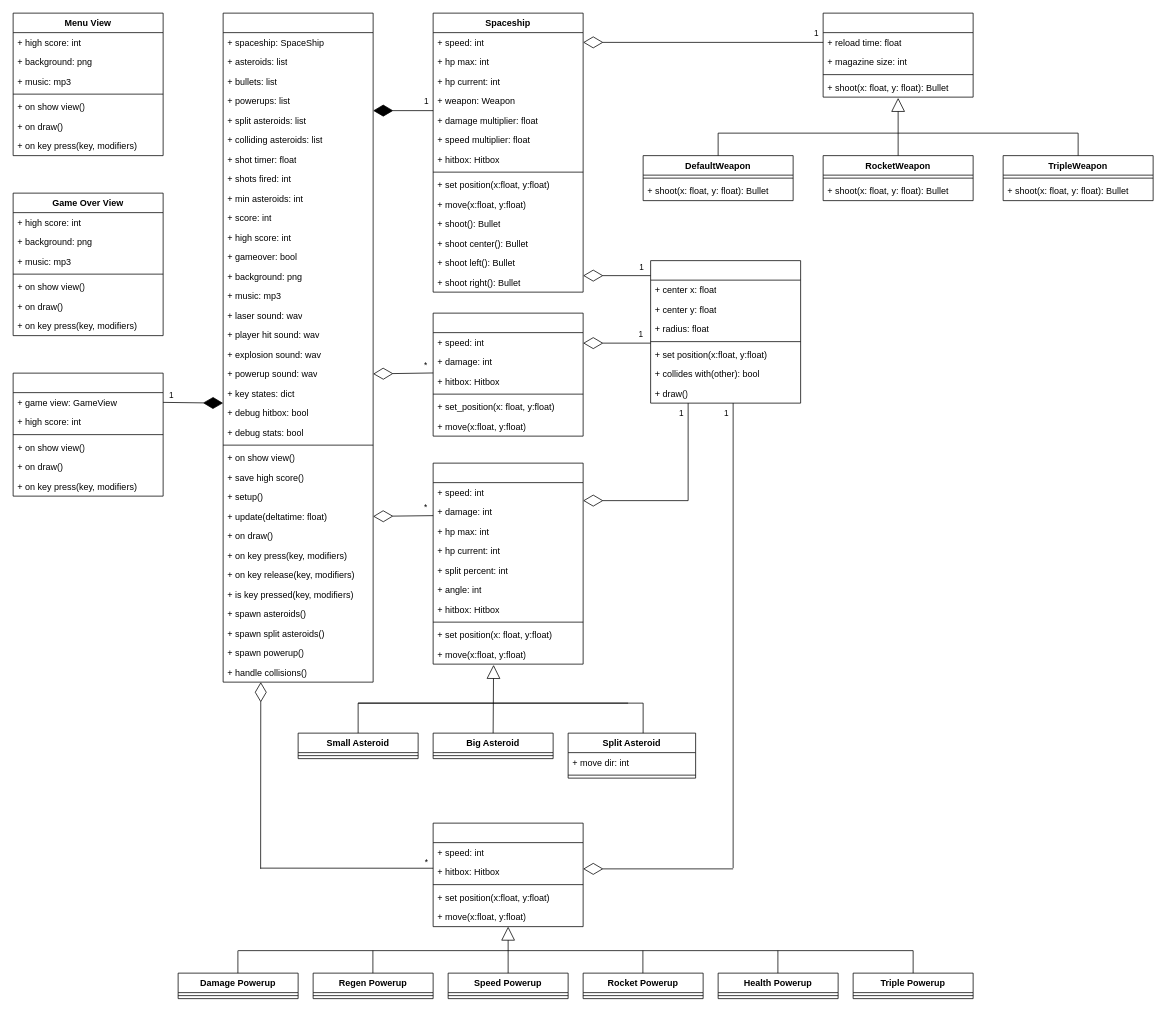
This 1166x1012 diagram has some shape labels left out. The box of each missing label's shape, as (x1, y1, x2, y2) in pixels:
Asteroid: (432, 462, 583, 664)
Bullet: (432, 312, 583, 436)
Game View: (222, 12, 373, 682)
Hitbox: (650, 260, 801, 403)
Pause View: (12, 372, 163, 496)
Powerups: (432, 822, 583, 927)
Weapon: (822, 12, 973, 97)
